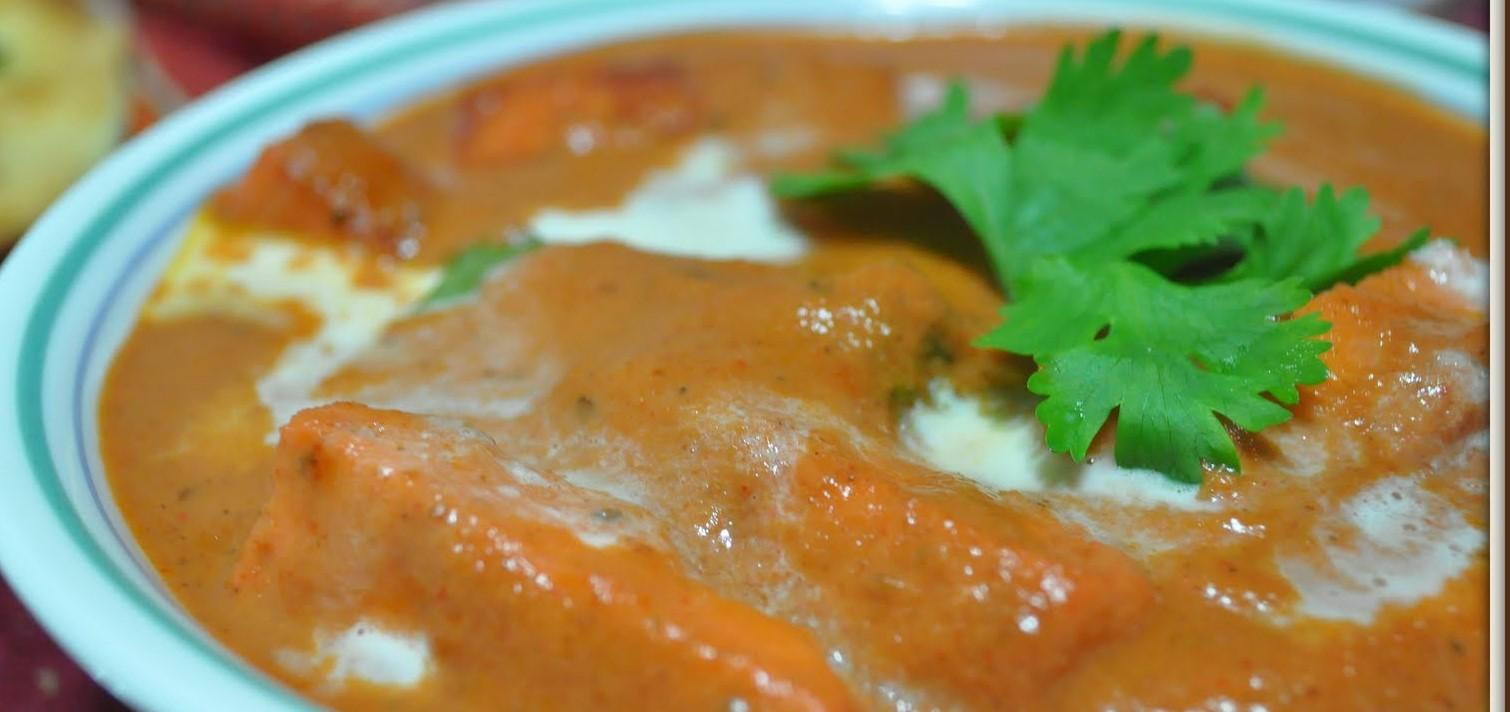ShahiPaneer: (92, 18, 1488, 712)
